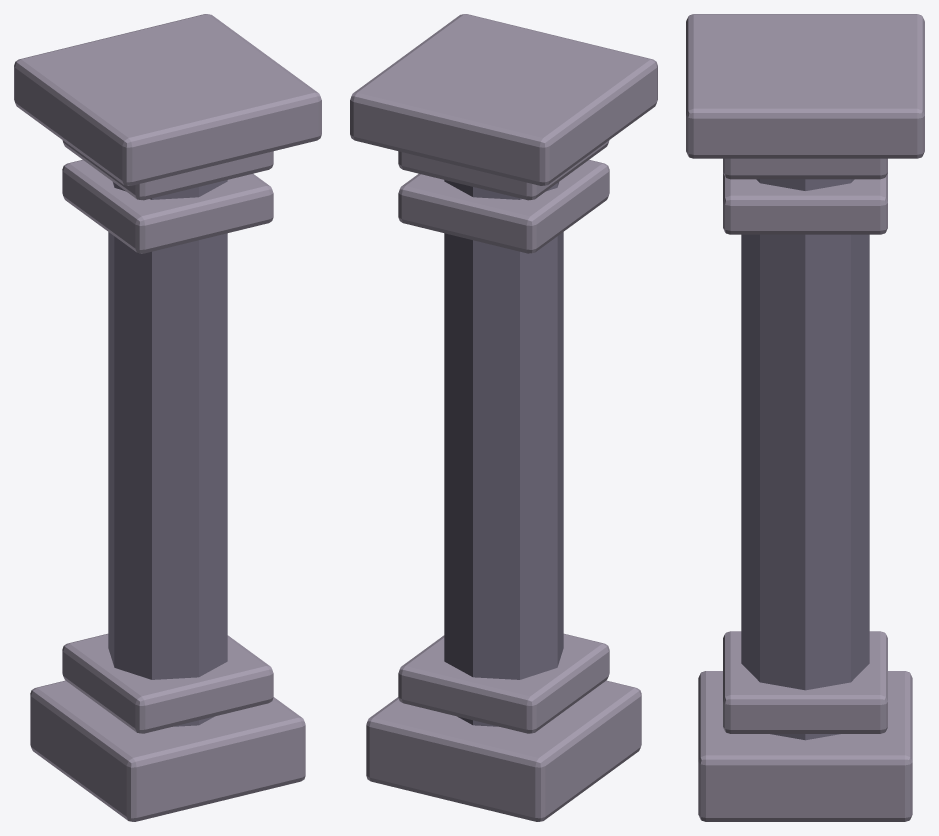
Rendered from pillar.glb.
3 views of the same model, side by side, from view 1: azimuth 30°, elevation 25°; view 2: azimuth 150°, elevation 25°; view 3: azimuth 270°, elevation 25° (orthographic). The views are drawn at different scales.
Visible parts, largest first — view 1: octagonal shaft, capital, foot, carved collar, carved collar.001, carved collar.002; view 2: octagonal shaft, capital, foot, carved collar, carved collar.001, carved collar.002; view 3: octagonal shaft, capital, foot, carved collar, carved collar.001, carved collar.002.
Part boxes in pixels (bbox=[...]): octagonal shaft: bbox=[108, 180, 227, 726]; capital: bbox=[14, 14, 321, 185]; foot: bbox=[30, 680, 305, 821]; carved collar: bbox=[62, 633, 273, 733]; carved collar.001: bbox=[62, 159, 273, 253]; carved collar.002: bbox=[62, 140, 273, 200]; octagonal shaft: bbox=[444, 180, 563, 726]; capital: bbox=[350, 14, 657, 185]; foot: bbox=[366, 680, 641, 821]; carved collar: bbox=[398, 633, 609, 733]; carved collar.001: bbox=[398, 159, 609, 253]; carved collar.002: bbox=[398, 140, 609, 200]; octagonal shaft: bbox=[741, 179, 869, 740]; capital: bbox=[686, 14, 924, 158]; foot: bbox=[698, 671, 912, 821]; carved collar: bbox=[723, 631, 887, 733]; carved collar.001: bbox=[723, 173, 887, 234]; carved collar.002: bbox=[723, 158, 887, 179].
Size of the model in its own units: 0.78 by 2.59 by 0.78.
